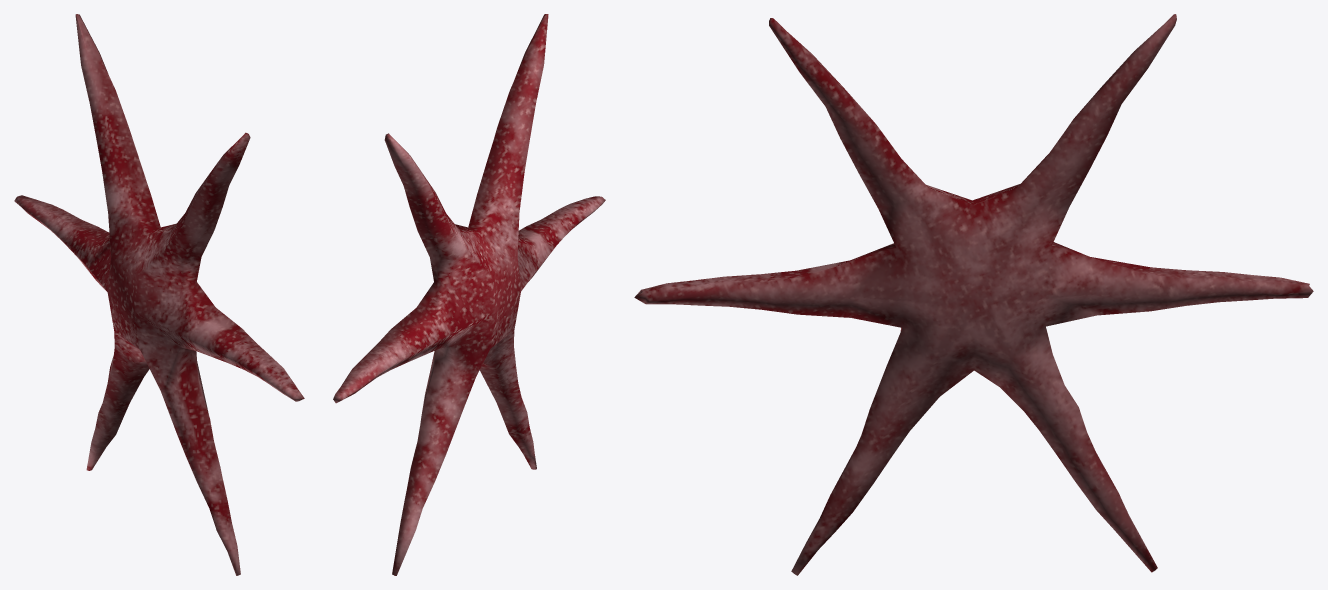
The model's file is Starfish_1.fbx.
3 renders of one model, left to right at view 1: azimuth 30°, elevation 25°; view 2: azimuth 150°, elevation 25°; view 3: azimuth 270°, elevation 25°, orthographic. The views are drawn at different scales.
Visible parts, largest first — view 1: Starfish_low001; view 2: Starfish_low001; view 3: Starfish_low001.
Boxes of the visible parts, x1,y1,x2,y2 form: Starfish_low001: [14, 14, 304, 575]; Starfish_low001: [333, 14, 605, 575]; Starfish_low001: [634, 14, 1313, 575].
Bounding box in the file's own units: 5.14 × 35.93 × 39.8.
